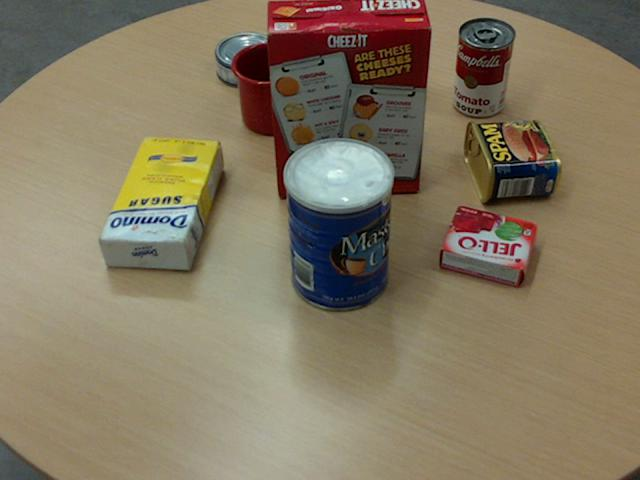cracker_box: (263, 0, 431, 196)
gelatin_box: (439, 204, 538, 285)
large_marker: (402, 45, 423, 136)
master_chef_can: (282, 137, 392, 312)
mug: (230, 41, 316, 134)
mustard_bottle: (286, 8, 420, 94)
potted_meat_can: (462, 119, 559, 202)
sugar_box: (97, 136, 221, 269)
tomato_soup_can: (452, 17, 514, 116)
tuna_fish_can: (213, 31, 278, 86)
